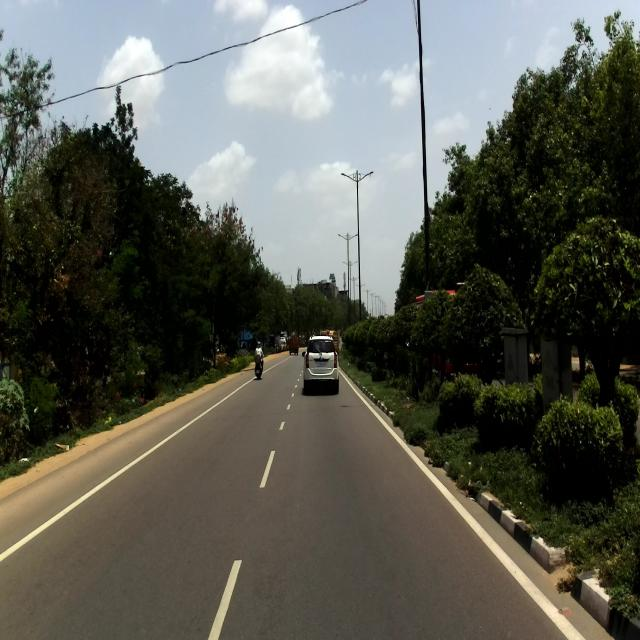car: (302, 332, 339, 395)
scooter: (254, 352, 264, 378)
